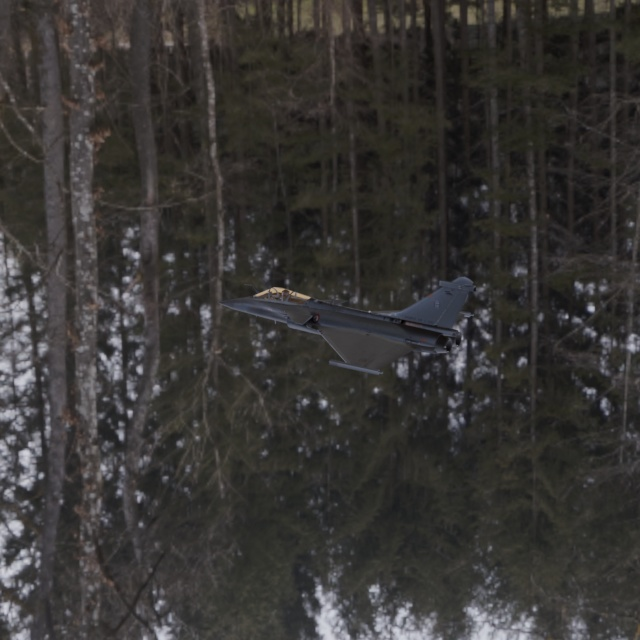dassault_rafale: (158, 219, 517, 394)
